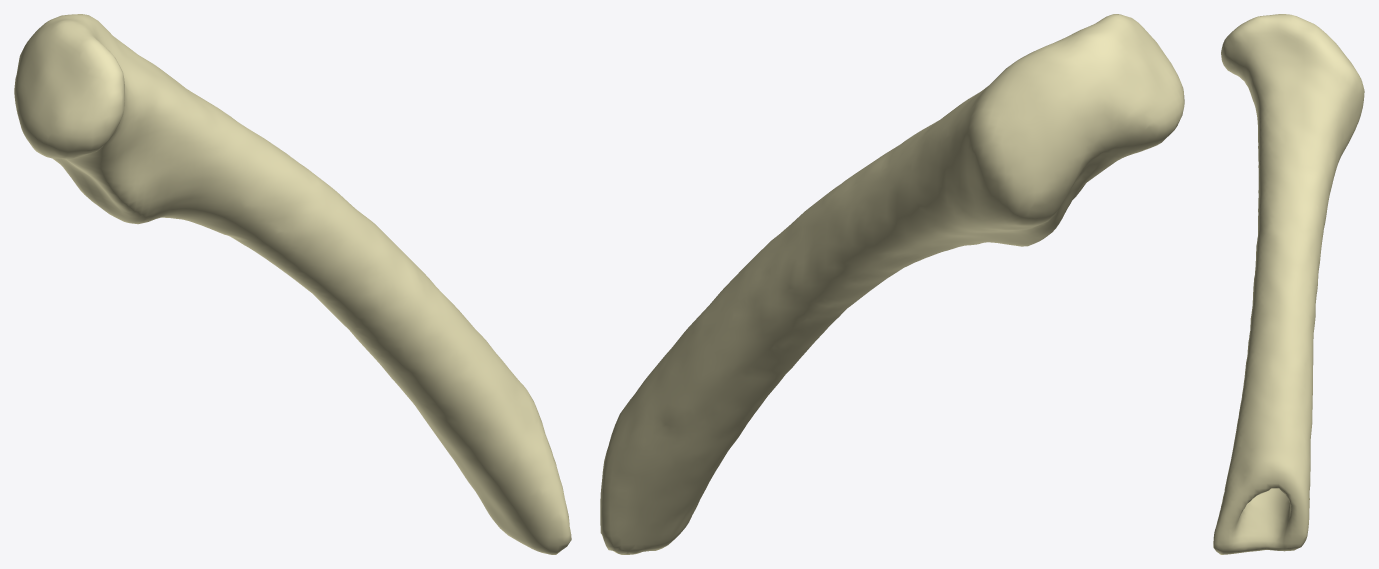
The model's file is Pat2_Mav_LeftFemur.fbx.
3 views of the same model, side by side, from view 1: azimuth 30°, elevation 25°; view 2: azimuth 150°, elevation 25°; view 3: azimuth 270°, elevation 25° (orthographic). The views are drawn at different scales.
Visible parts, largest first — view 1: sm_RightIlium; view 2: sm_RightIlium; view 3: sm_RightIlium.
Boxes of the visible parts, left/top/right/bottom form: sm_RightIlium: left=14, top=14, right=571, bottom=554; sm_RightIlium: left=600, top=14, right=1184, bottom=554; sm_RightIlium: left=1213, top=14, right=1364, bottom=554.
Bounding box in the file's own units: 62.6 × 71.02 × 24.45.
